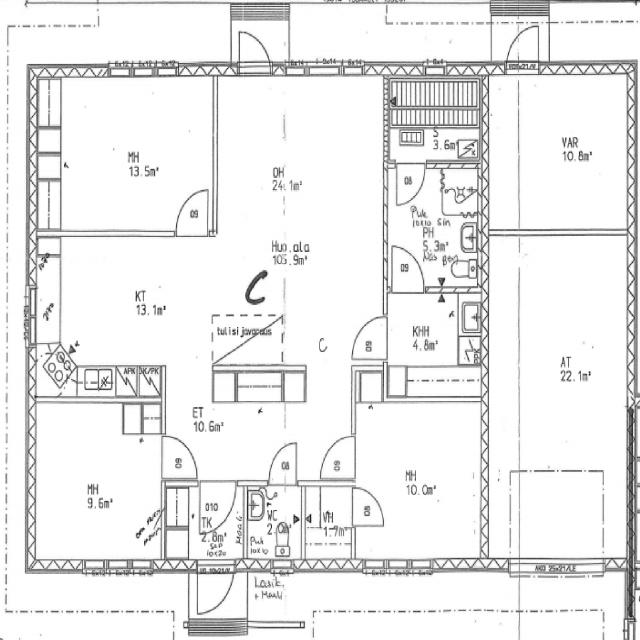door: (197, 558, 234, 623), (200, 481, 236, 535), (506, 18, 538, 76), (239, 18, 270, 77), (391, 243, 424, 293), (175, 188, 208, 236), (351, 317, 387, 359), (161, 436, 197, 478), (320, 436, 355, 478), (396, 160, 424, 208), (268, 443, 296, 486), (351, 488, 382, 526)
